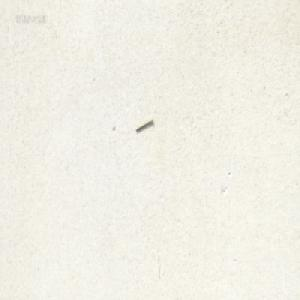Bolt: (134, 116, 153, 131)
